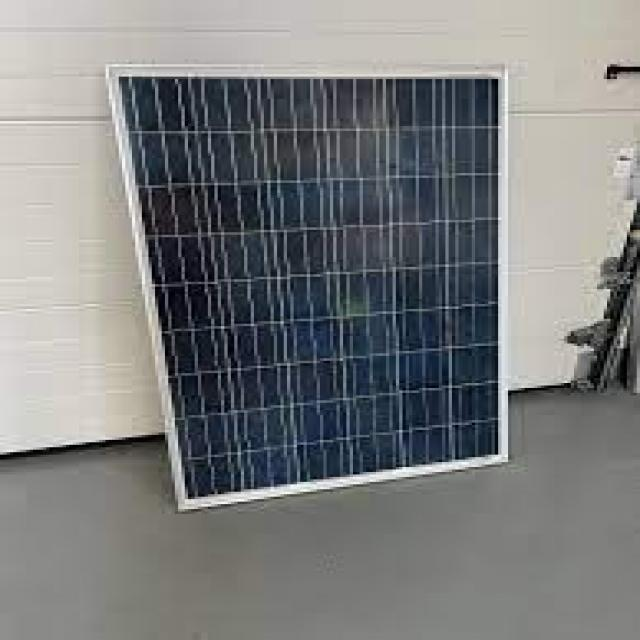faulty: (112, 79, 499, 502)
